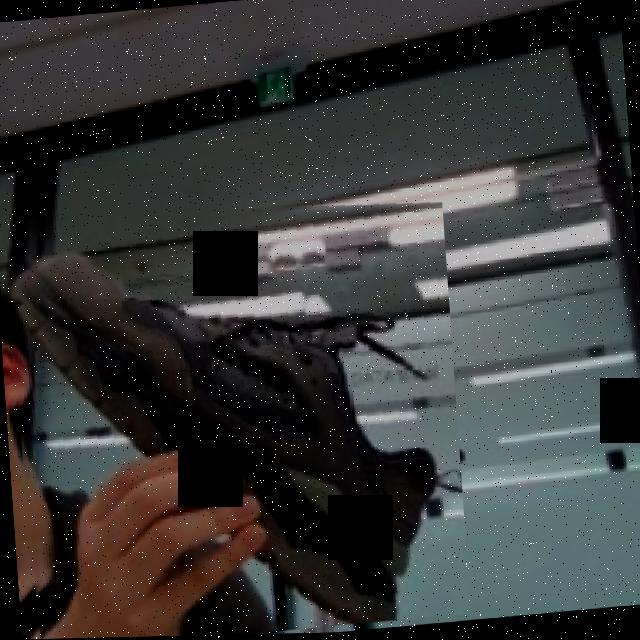shoe: (0, 177, 470, 640)
